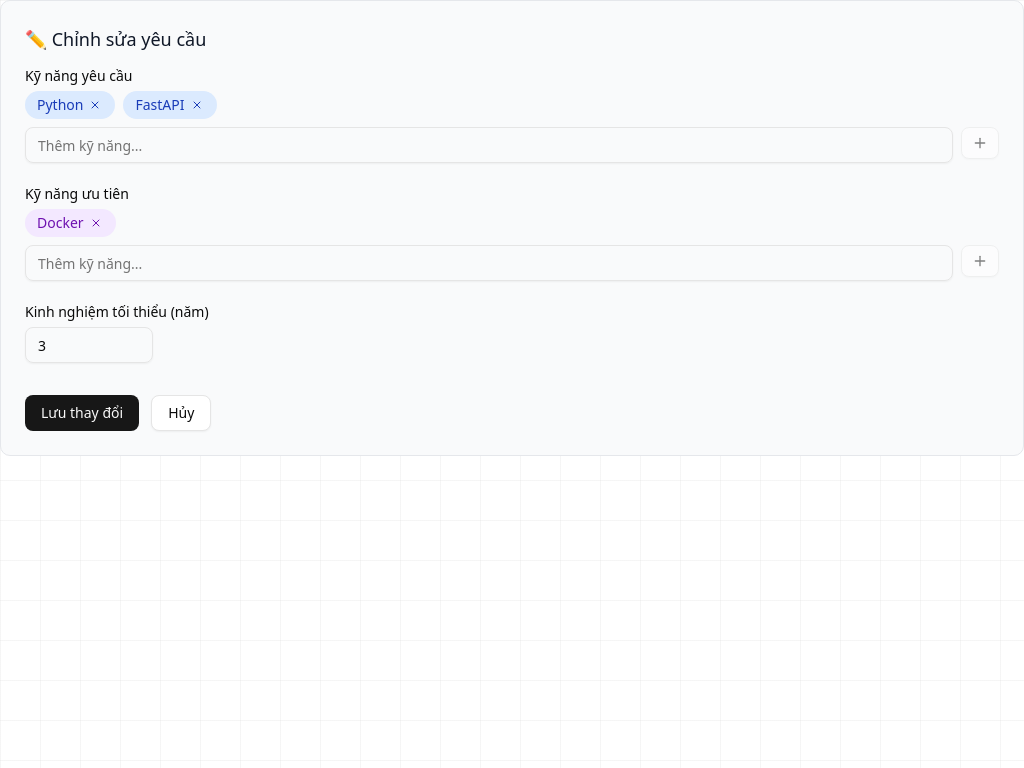
Test: EditParsedRequirements › add skills from tag input
This screenshot has width=1024, height=768.
Type "Django" into the field named "Thêm kỹ năng yêu cầu mới".
click(489, 145); type("Django")  # box top-left (25, 127), bottom-right (953, 163)
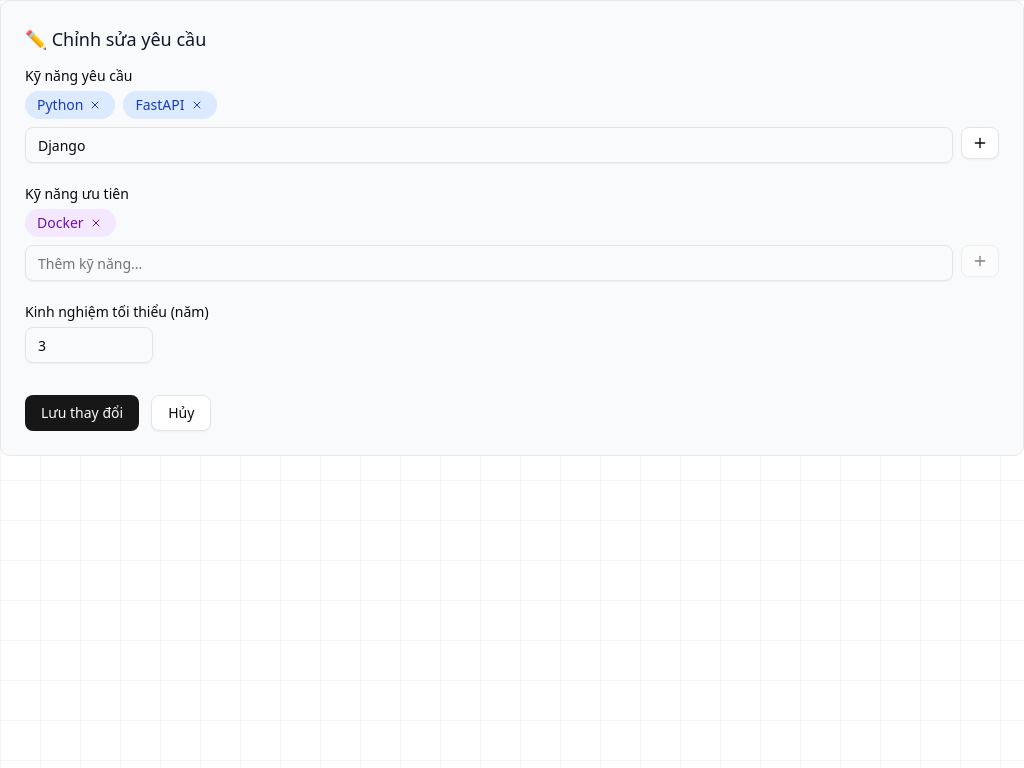
Click the 3rd button.
click(980, 143)  # box top-left (961, 127), bottom-right (999, 159)
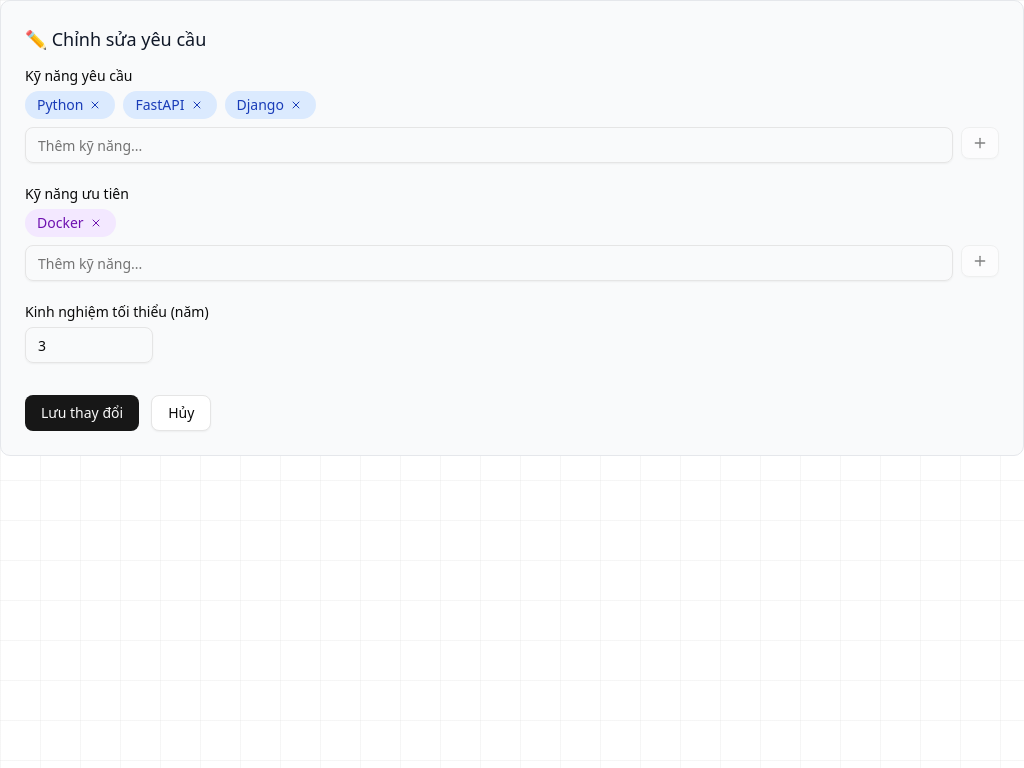
Expected: the list item "Django" is shown, top-left (224, 91), bottom-right (316, 119)
